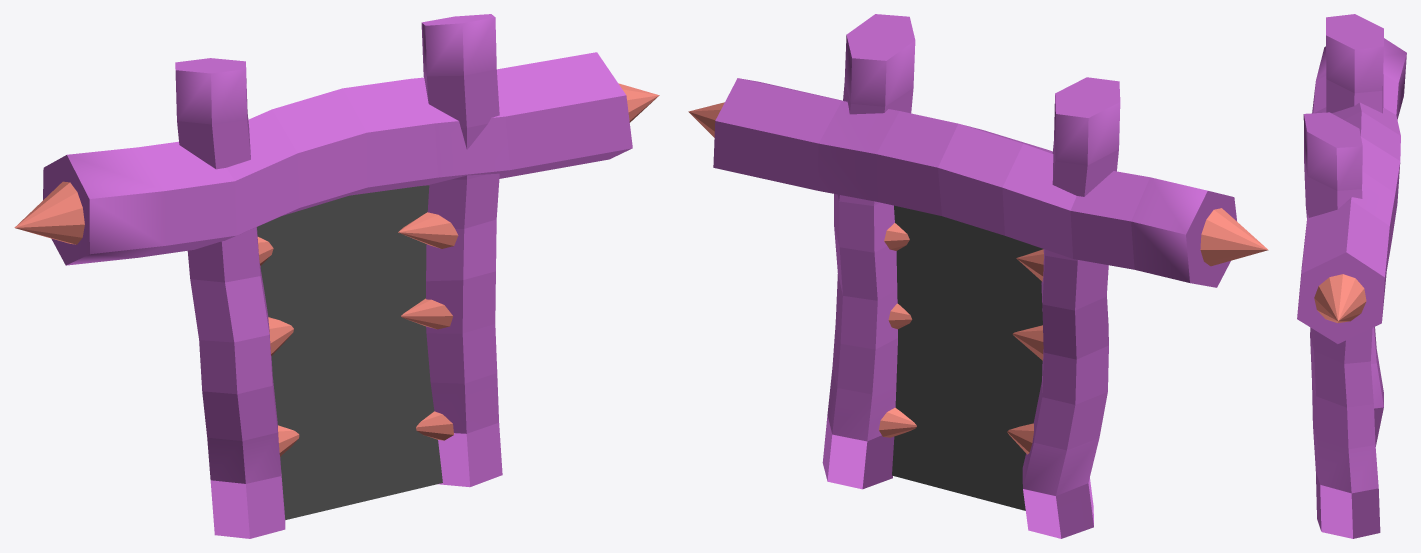
File: Gate.dae
The picture shows the model from 3 angles, left to right: view 1: azimuth 30°, elevation 25°; view 2: azimuth 150°, elevation 25°; view 3: azimuth 270°, elevation 25°; orthographic projection. The views are drawn at different scales.
Parts seen in each view (by area): view 1: Gate; view 2: Gate; view 3: Gate.
Part boxes in pixels (x1,y1,x2,y2): Gate: (14,14,659,538); Gate: (688,14,1268,538); Gate: (1297,14,1406,538).
Bounding box in the file's own units: 0.6281 × 0.1119 × 0.4538.
